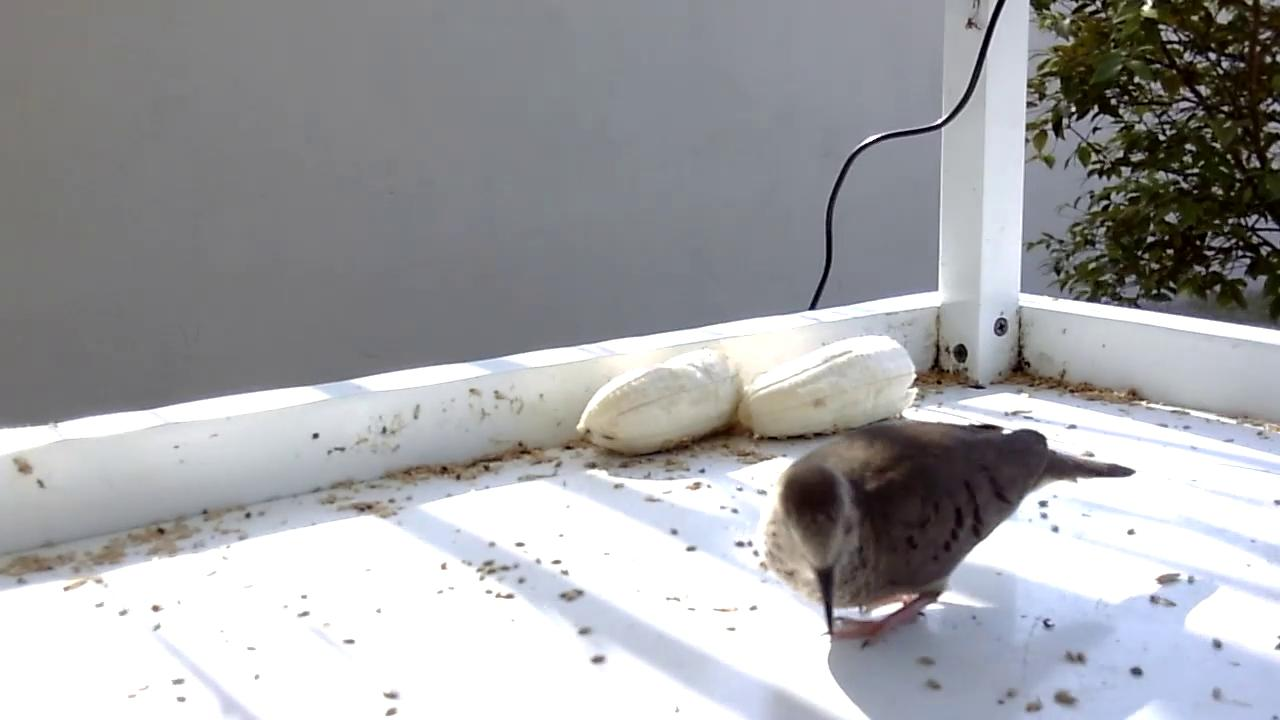rolinha: (752, 417, 1139, 656)
